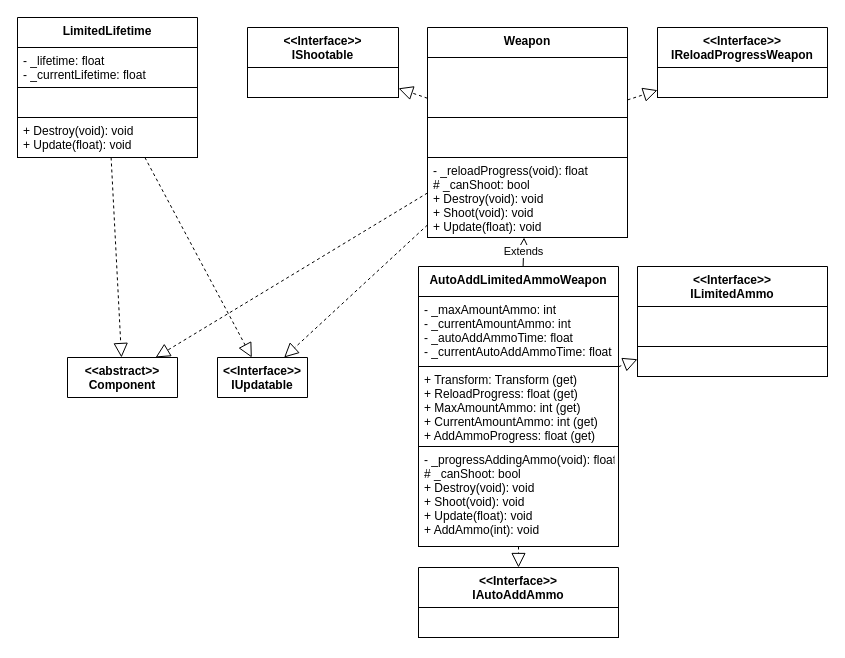
Image size: 845x658. Some labels were removed from this diagram. Each missing label, with the centre of its shape:
"+ AddAmmo(int): void" belongs at (x=732, y=361).
"+ MaxAmountAmmo: int (get) + CurrentAmountAmmo: int (get)" belongs at (x=732, y=326).
"+ ProgressAddingAmmo: float (get)" belongs at (x=518, y=622).
"+ ReloadProgress: float (get)" belongs at (x=742, y=82).
"+ Shoot(void): void" belongs at (x=322, y=82).
"+ Transform: Transform (get)" belongs at (x=107, y=102).
"+ Transform: Transform (get) + ReloadProgress: float (get)" belongs at (x=527, y=137).
"- _firerate: float - _delayBetweenShots: float - _currentTimeBetweenShots: float" belongs at (x=527, y=87).
